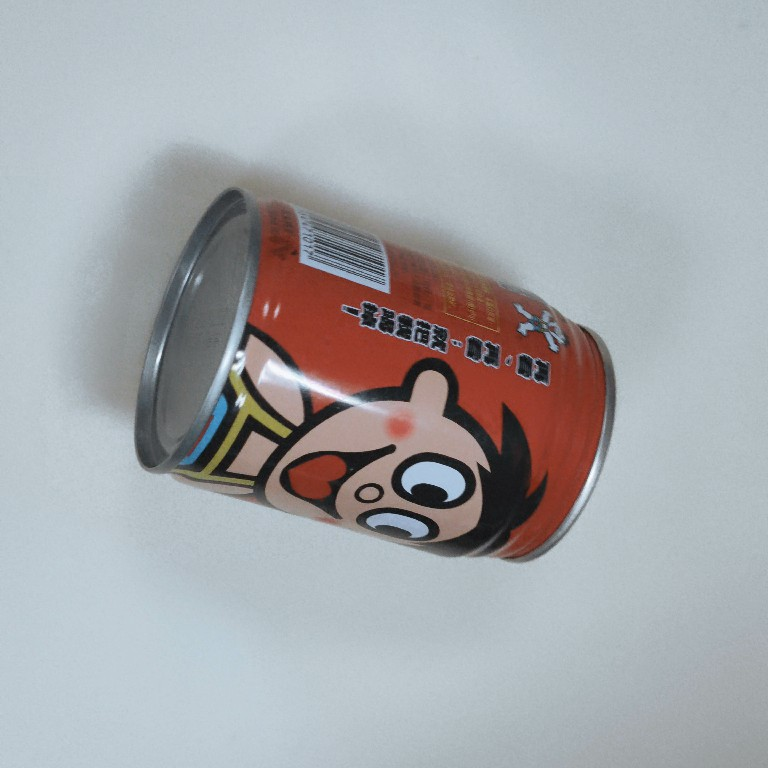can: (129, 183, 620, 569)
